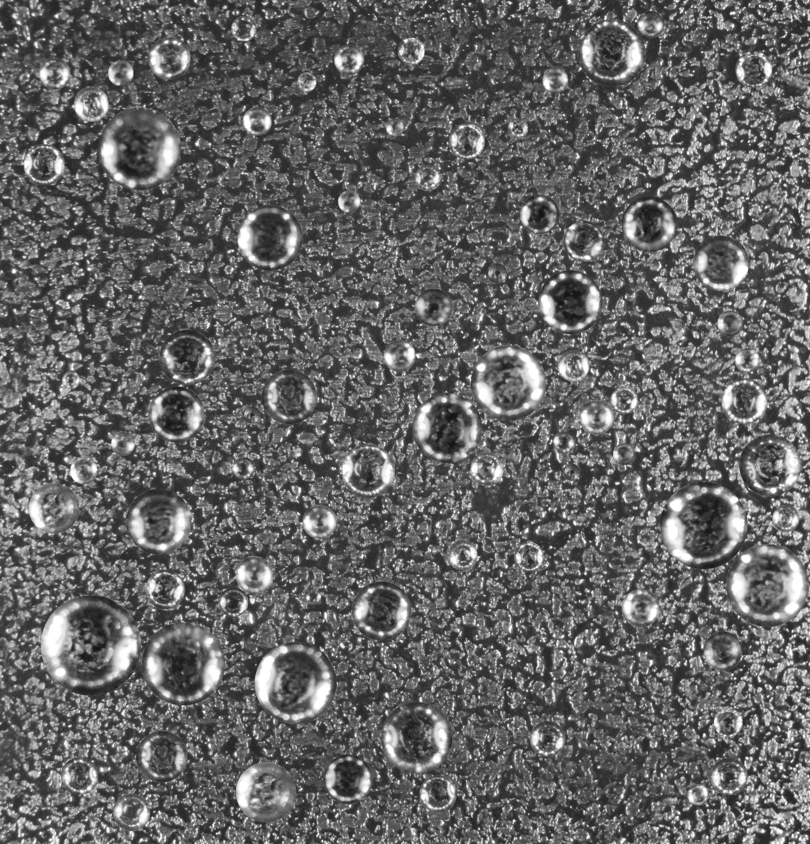Bubble: (40, 595, 140, 695), (660, 482, 747, 569), (141, 622, 224, 705), (98, 107, 180, 189), (726, 544, 808, 626), (254, 642, 336, 723), (470, 345, 546, 420), (381, 702, 452, 773), (412, 393, 482, 462), (578, 19, 645, 86), (126, 489, 191, 554), (237, 205, 302, 270), (538, 270, 602, 334), (739, 434, 801, 496), (236, 762, 296, 822), (352, 581, 411, 640), (148, 386, 204, 442), (693, 235, 748, 291), (159, 329, 214, 385), (261, 369, 316, 424), (621, 196, 676, 251), (341, 444, 394, 497), (136, 731, 187, 782), (28, 483, 79, 533), (323, 754, 372, 803), (721, 378, 767, 424), (148, 37, 190, 79), (23, 144, 64, 185), (563, 221, 604, 261), (145, 569, 184, 609), (703, 631, 742, 670), (520, 194, 559, 233), (621, 589, 659, 627), (414, 288, 452, 326), (60, 757, 98, 794), (235, 556, 273, 593), (419, 775, 456, 812), (113, 794, 150, 831), (710, 758, 747, 795), (735, 51, 772, 87), (449, 123, 484, 159), (530, 721, 565, 756), (73, 86, 108, 121), (302, 504, 336, 538), (579, 400, 613, 434), (470, 452, 503, 485), (383, 340, 415, 371), (558, 350, 589, 381), (39, 58, 70, 89), (447, 540, 477, 570), (334, 44, 364, 74), (218, 587, 248, 616), (514, 542, 543, 571), (714, 708, 742, 737), (243, 107, 271, 135), (610, 386, 637, 413), (637, 10, 664, 37), (772, 505, 799, 532), (397, 37, 424, 64), (70, 457, 97, 484), (542, 67, 568, 93), (415, 164, 441, 190), (717, 310, 743, 336), (108, 60, 133, 85), (231, 16, 256, 41), (735, 348, 759, 372), (111, 431, 134, 455), (338, 190, 360, 212), (553, 431, 575, 453), (232, 457, 254, 479), (613, 443, 634, 464), (687, 784, 708, 805), (507, 117, 528, 138), (487, 263, 507, 283), (297, 72, 316, 91), (385, 118, 403, 136), (62, 371, 80, 389), (563, 463, 580, 480), (243, 406, 260, 423), (306, 589, 321, 604)
